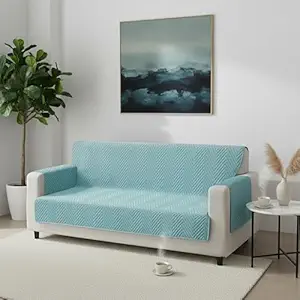3seatersofa: (27, 141, 257, 264)
backrest: (72, 141, 248, 193)
base: (35, 187, 209, 255)
leftarmrest: (208, 172, 259, 258)
leg: (217, 257, 222, 265), (34, 232, 38, 238)
rightarmrest: (27, 165, 76, 230)
